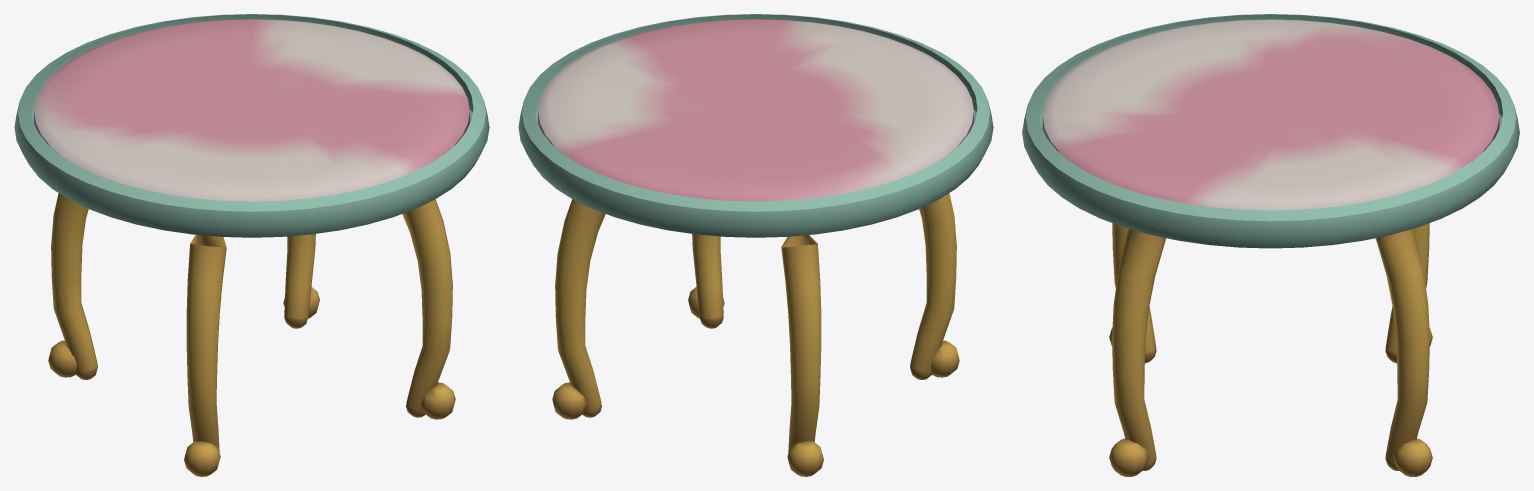
The model's file is table_patisserie.glb.
The picture shows the model from 3 angles, left to right: view 1: azimuth 30°, elevation 25°; view 2: azimuth 150°, elevation 25°; view 3: azimuth 270°, elevation 25°; orthographic projection. The views are drawn at different scales.
Visible parts, largest first — view 1: table_patisserie; view 2: table_patisserie; view 3: table_patisserie.
Boxes of the visible parts, bbox=[...] form: table_patisserie: bbox=[14, 14, 489, 476]; table_patisserie: bbox=[518, 14, 993, 476]; table_patisserie: bbox=[1022, 14, 1519, 476].
Size of the model in its own units: 1.33 by 0.9051 by 1.33.
